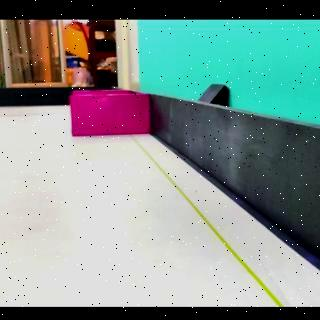xparking: (71, 97, 148, 133)
